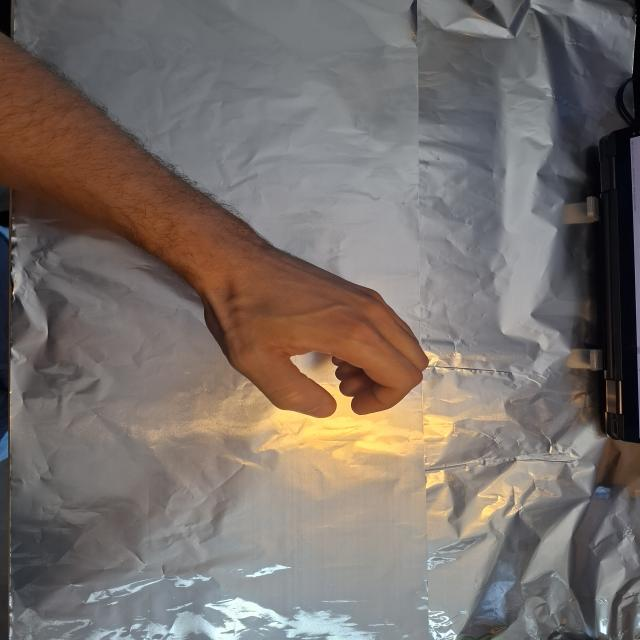glove_off: (195, 246, 432, 421)
